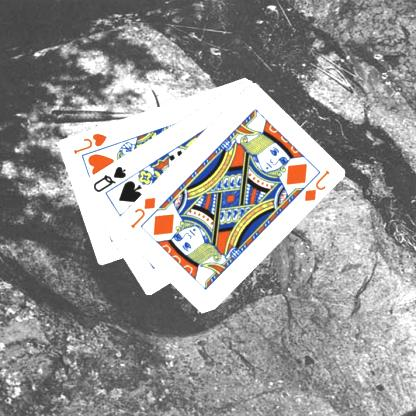JD: (128, 194, 158, 230), (303, 167, 333, 203)
JH: (72, 130, 110, 156)
QS: (92, 164, 129, 194)
